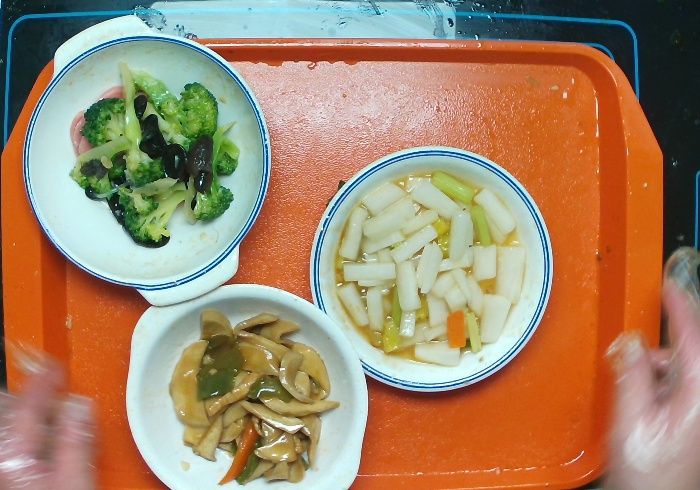HZYJPL-Dai_Er_Bai_Yuan_Wan: (123, 282, 370, 490)
HZYJPL-Lan_Bian_Dai_Er_Wan: (21, 14, 272, 308)
HZYJPL-Lan_Bian_Yuan_Die: (308, 144, 555, 394)
